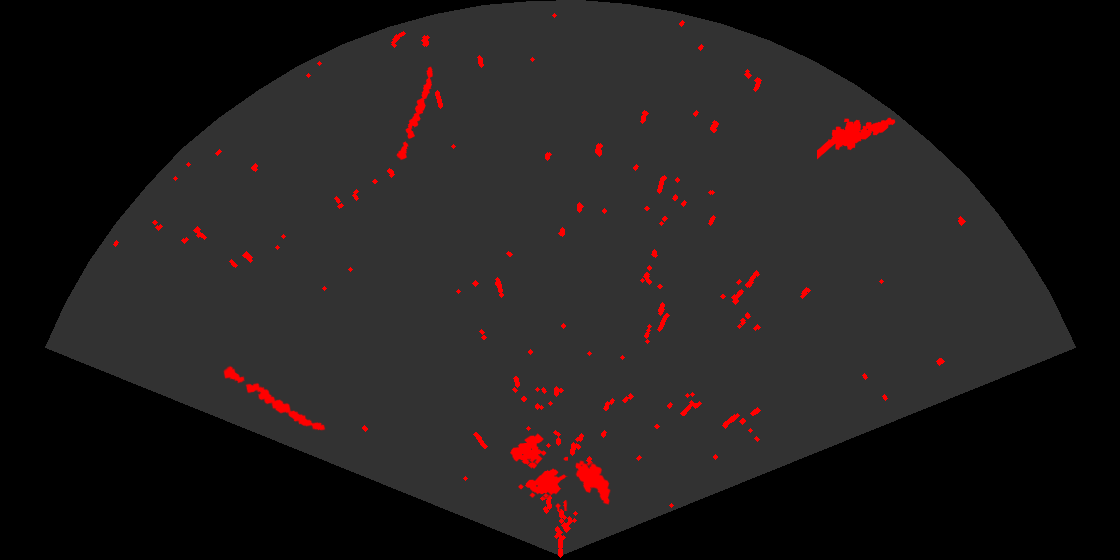AUV: (574, 458, 612, 506)
cage: (509, 432, 568, 511)
chain: (222, 364, 327, 432), (395, 65, 435, 162)
frogman: (817, 116, 897, 161)
